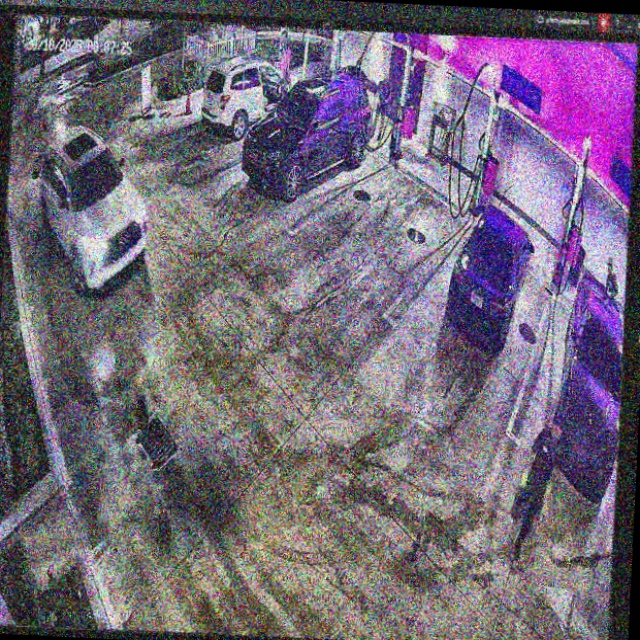Car: (241, 68, 374, 206), (444, 204, 535, 351)
